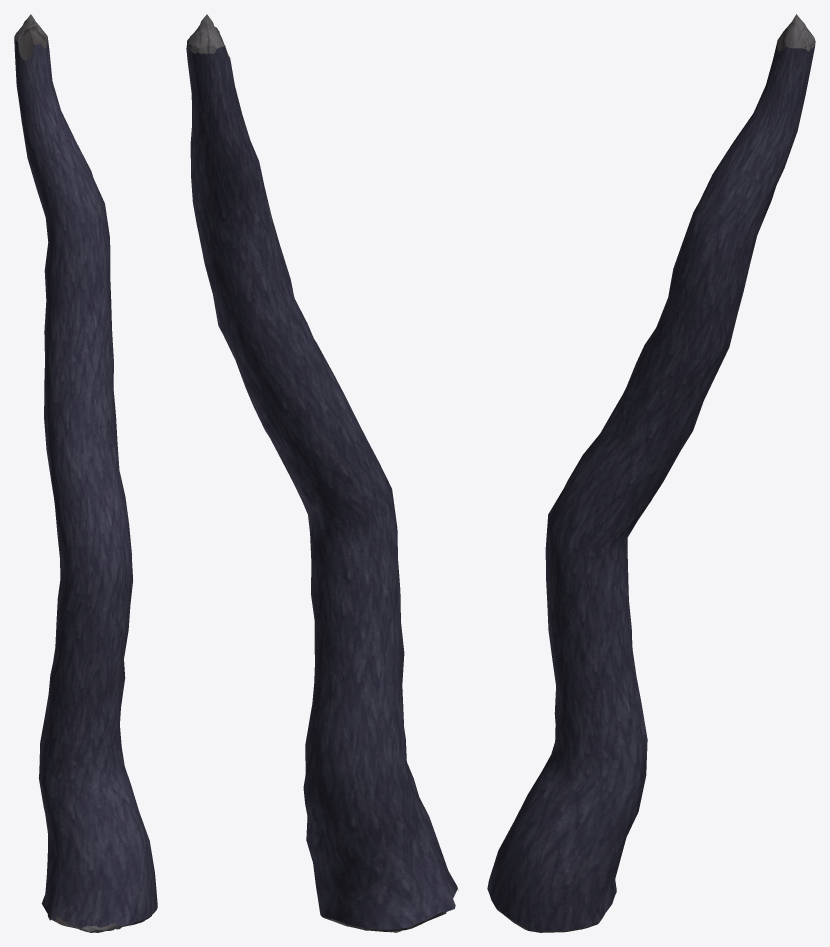
3 views of the same model, side by side, from view 1: azimuth 30°, elevation 25°; view 2: azimuth 150°, elevation 25°; view 3: azimuth 270°, elevation 25° (orthographic). The views are drawn at different scales.
Parts seen in each view (by area): view 1: SM_Willow_01_full_LOD0; view 2: SM_Willow_01_full_LOD0; view 3: SM_Willow_01_full_LOD0.
Part boxes in pixels (bbox=[...]): SM_Willow_01_full_LOD0: bbox=[14, 14, 157, 932]; SM_Willow_01_full_LOD0: bbox=[186, 14, 457, 932]; SM_Willow_01_full_LOD0: bbox=[487, 14, 815, 932].
Size of the model in its own units: 1.53 by 9.1 by 2.9.
1 material, 1 textured.
